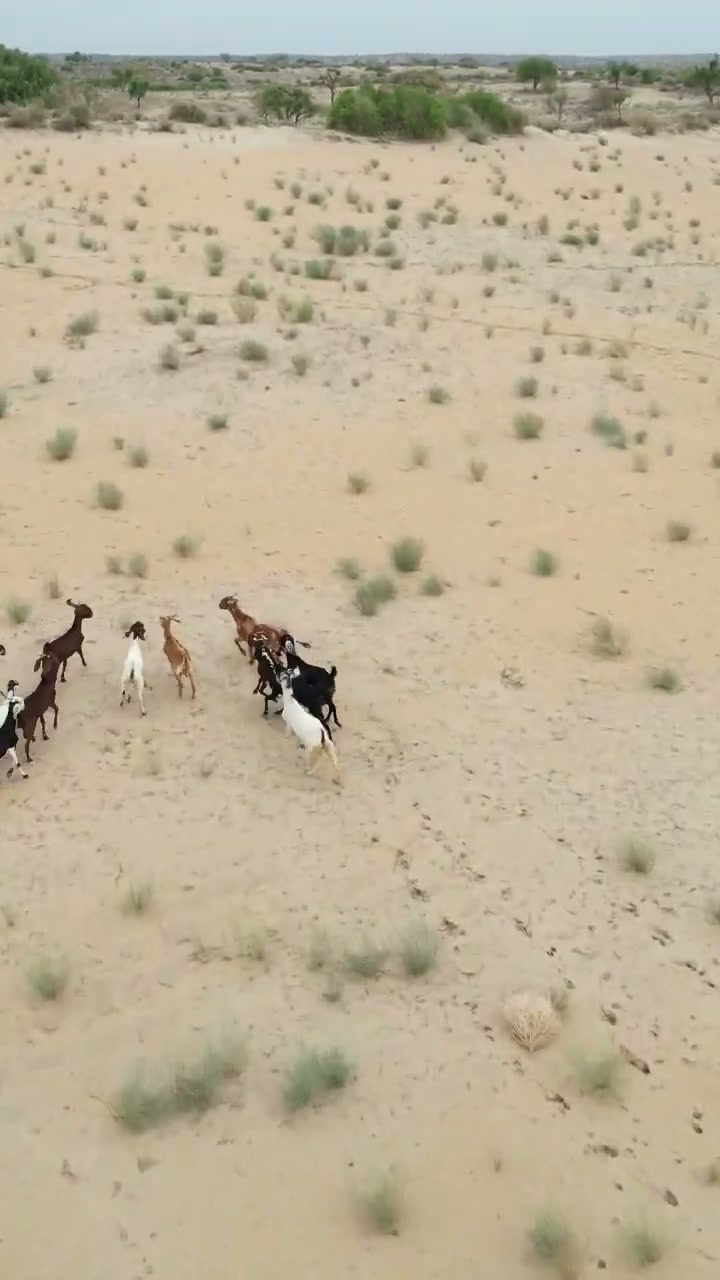animal_footprint: (24, 692, 719, 1192)
